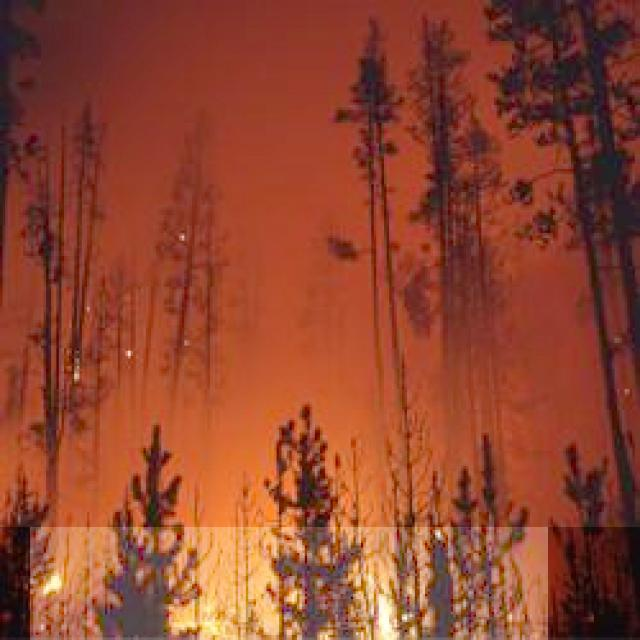Fire: (30, 421, 548, 640)
Smoke: (0, 0, 640, 527)
